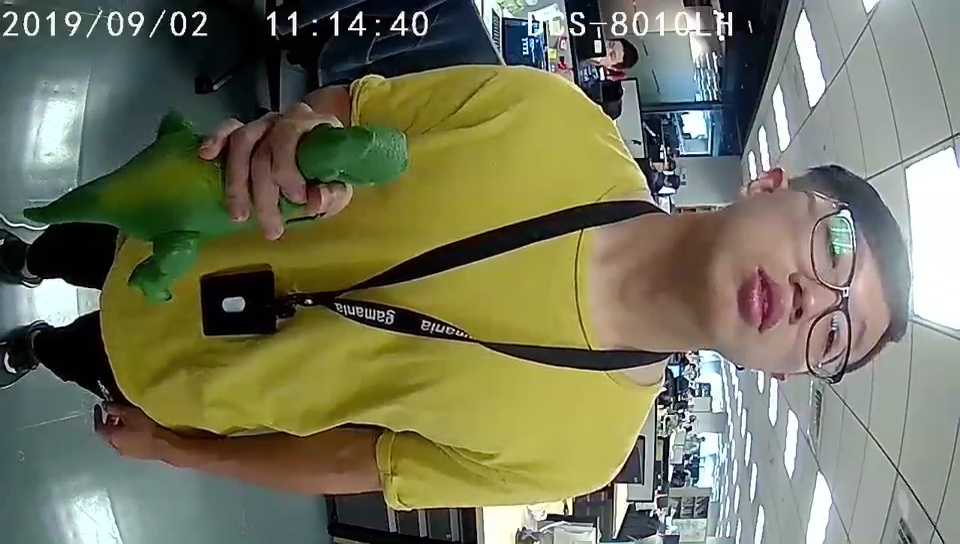rex: (130, 128, 408, 304)
